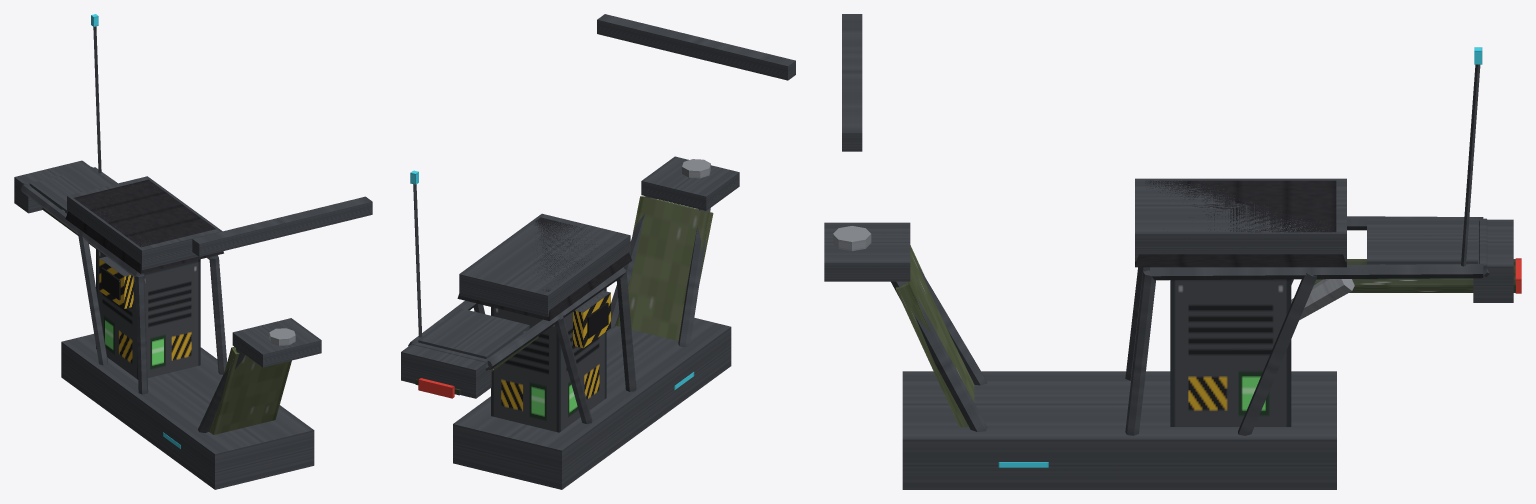
The model's file is pod_scooter.fbx.
The picture shows the model from 3 angles, left to right: view 1: azimuth 30°, elevation 25°; view 2: azimuth 150°, elevation 25°; view 3: azimuth 270°, elevation 25°; orthographic projection. The views are drawn at different scales.
Parts seen in each view (by area): view 1: pod_scooter, pod_scooter_phys; view 2: pod_scooter_phys, pod_scooter; view 3: pod_scooter_phys, pod_scooter.
Boxes of the visible parts, box(x1,y1,x2,y2) form: pod_scooter: box(20, 14, 321, 448); pod_scooter_phys: box(14, 160, 372, 489); pod_scooter_phys: box(401, 14, 795, 489); pod_scooter: box(408, 156, 739, 432); pod_scooter_phys: box(842, 14, 1513, 489); pod_scooter: box(824, 47, 1521, 467).
Bounding box in the file's own units: 56 × 94.1 × 138.
1 material, 1 textured.
